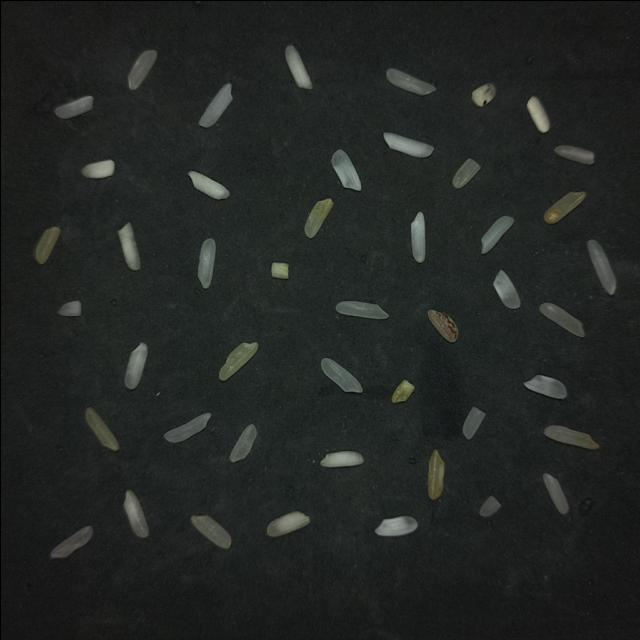broken: (191, 515, 231, 549), (493, 270, 520, 309), (524, 375, 567, 399), (230, 425, 257, 462), (55, 96, 93, 119), (452, 158, 479, 188), (555, 145, 594, 165), (463, 407, 485, 439), (392, 380, 415, 403), (480, 496, 500, 517), (58, 301, 81, 317), (271, 263, 289, 279)
chalky: (329, 146, 362, 191), (383, 133, 434, 158), (285, 45, 312, 89), (188, 171, 229, 199), (267, 511, 310, 537), (118, 223, 140, 270), (527, 96, 550, 133), (375, 516, 417, 536), (411, 212, 425, 263), (321, 451, 364, 467), (81, 160, 115, 179)
damaged: (544, 192, 586, 224), (472, 83, 495, 107)
discolored: (219, 342, 258, 380), (86, 408, 119, 451), (544, 425, 599, 449), (305, 198, 334, 238), (35, 227, 60, 264), (428, 450, 445, 500)
red: (428, 310, 459, 342)
whole: (587, 240, 616, 295), (540, 303, 584, 337), (199, 83, 232, 127), (321, 358, 362, 392), (50, 526, 92, 558), (165, 413, 211, 442), (386, 69, 435, 95), (481, 216, 514, 254), (124, 490, 149, 537), (128, 50, 157, 90), (543, 473, 569, 514), (125, 343, 147, 389), (336, 301, 388, 319), (198, 238, 215, 289)
